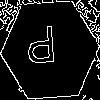P: (25, 25, 58, 74)
